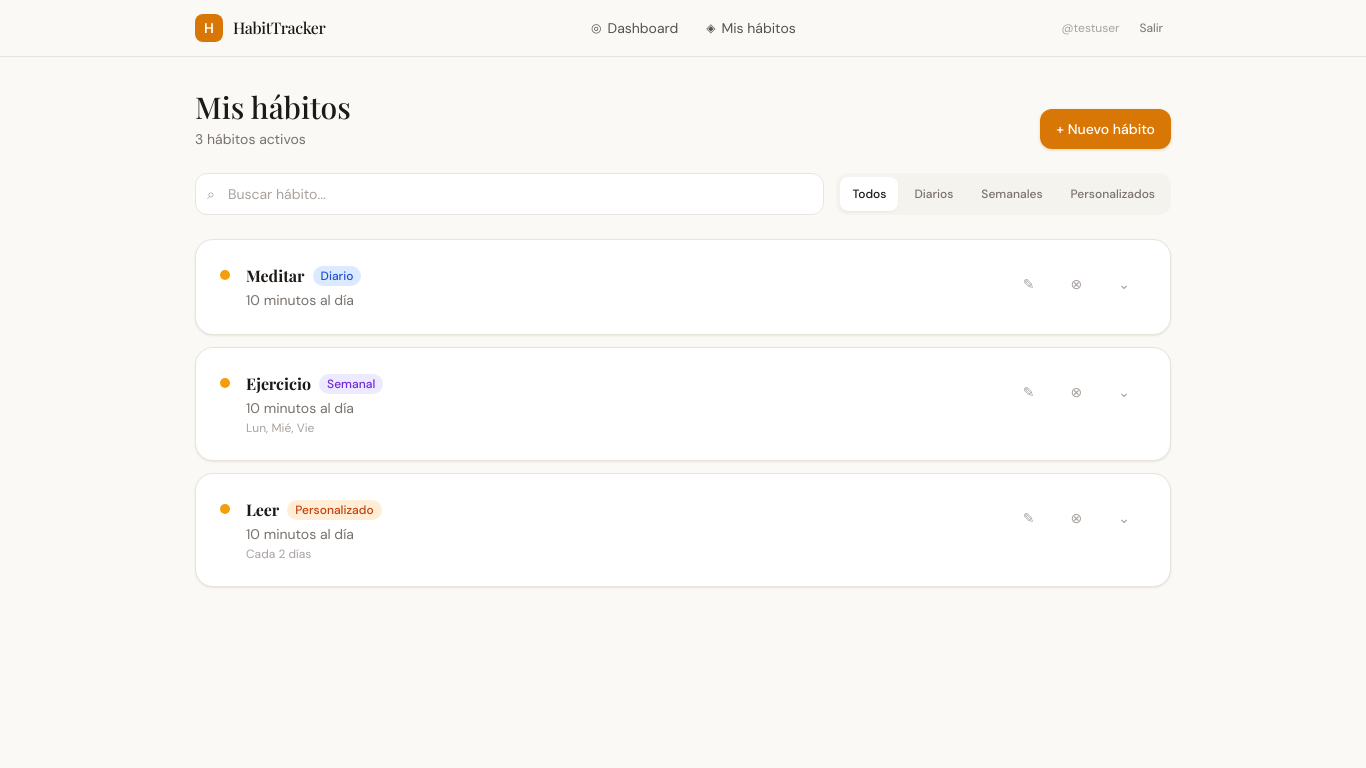
Scenario: HabitsPage — filtros de frecuencia › filtro "Personalizados" solo muestra hábitos CUSTOM
Expected: the heading "Leer" is shown, [246, 498, 279, 522]
Click the button "Personalizados" at (1113, 194), box [1059, 177, 1167, 211]
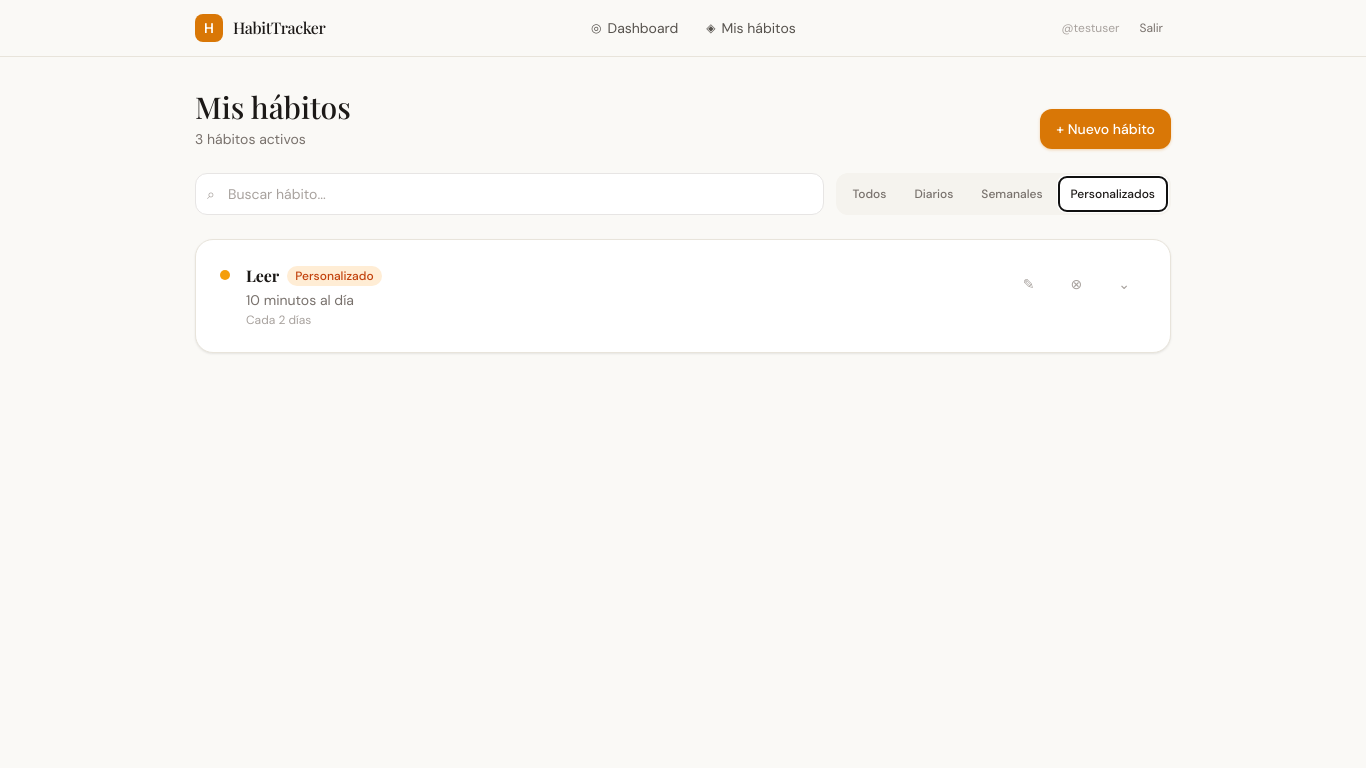
Expected: the heading "Leer" is shown, [246, 264, 279, 288]
Result: the heading "Meditar" is gone
Result: the heading "Ejercicio" is gone
